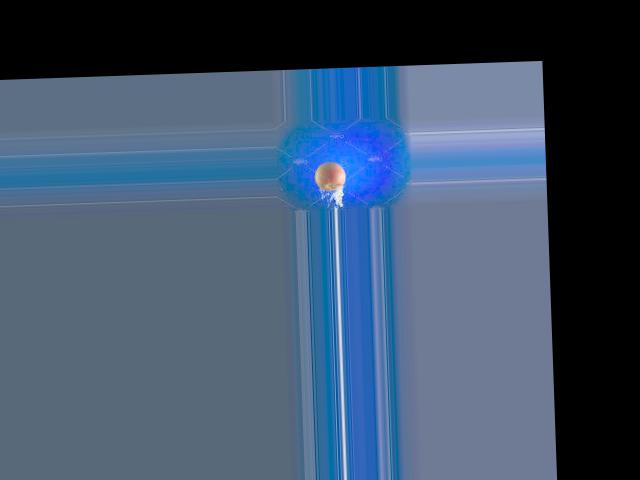tomato: (313, 162, 345, 191)
